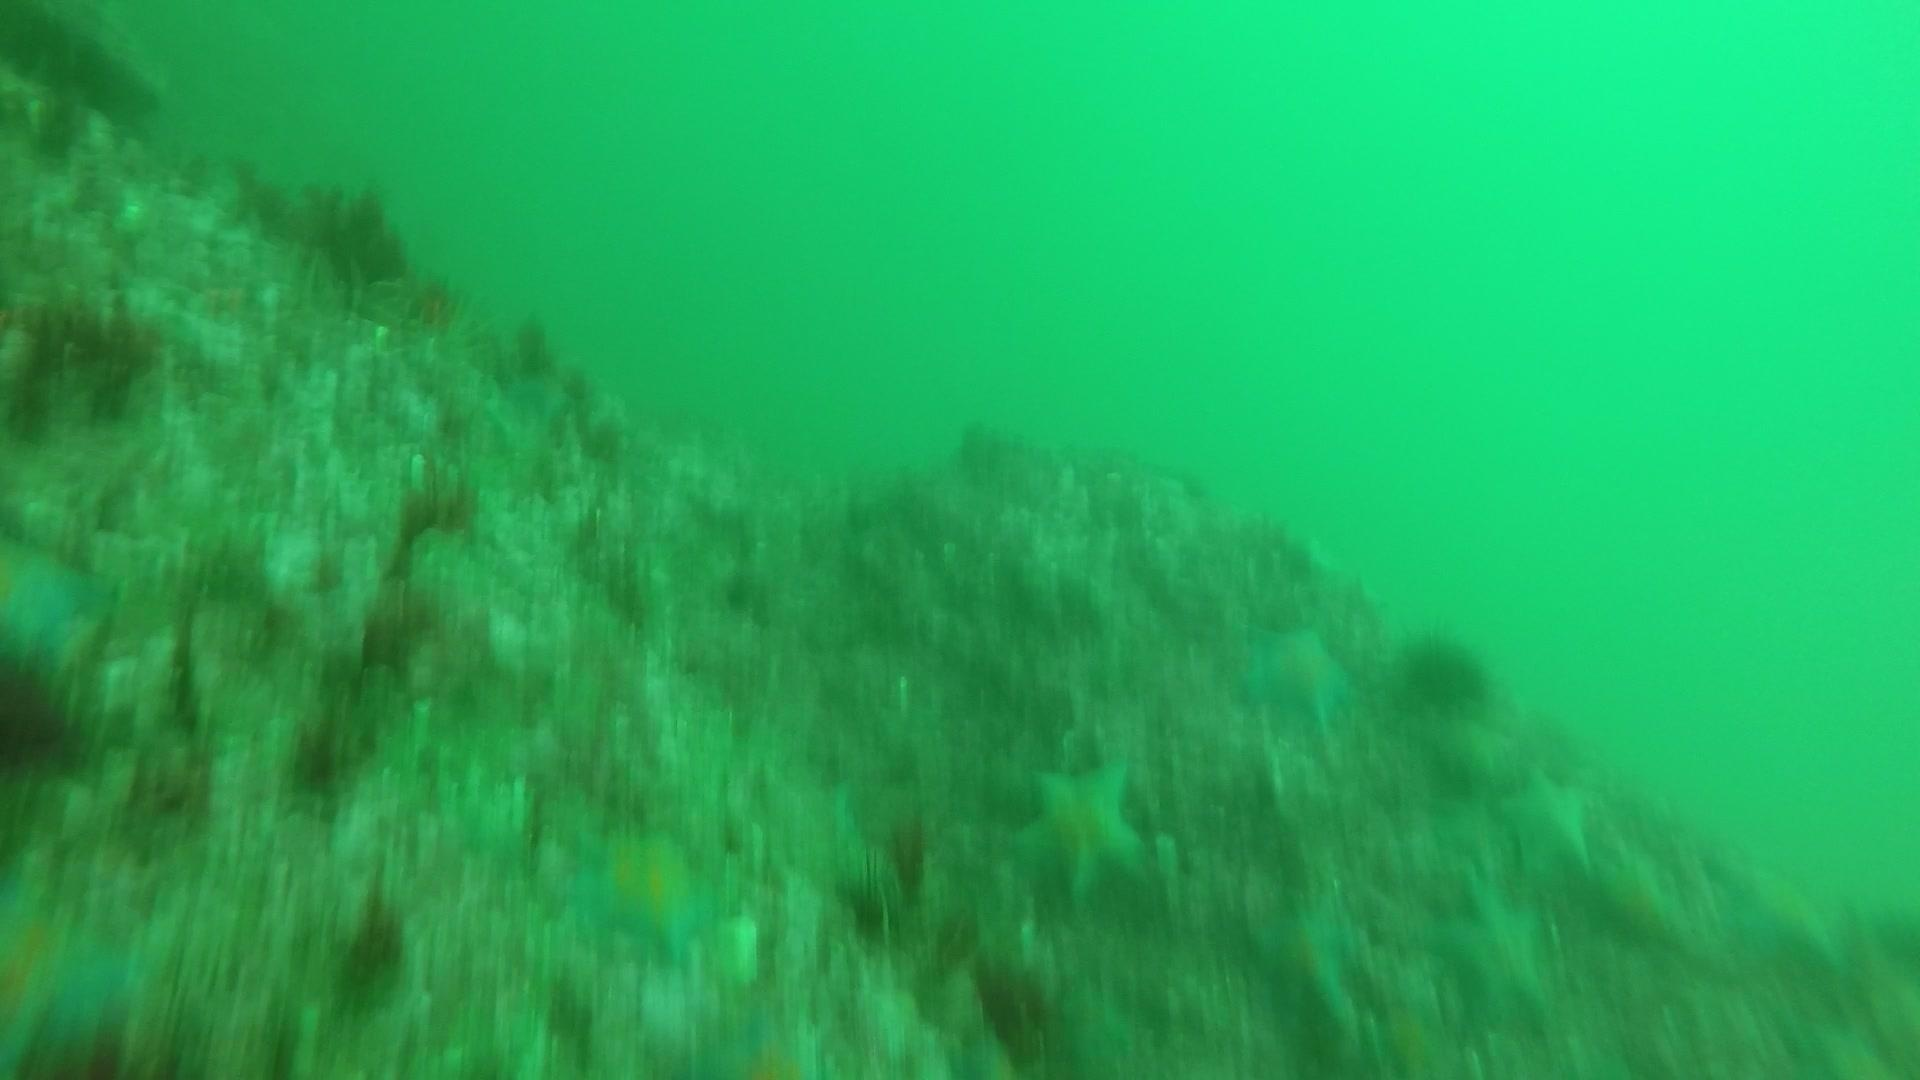echinus: (0, 644, 82, 781), (1395, 626, 1495, 716)
starfish: (0, 869, 156, 1075), (554, 818, 729, 965), (1005, 752, 1156, 909), (1418, 873, 1564, 1031), (1242, 884, 1375, 1029), (1710, 843, 1857, 975), (0, 529, 117, 671), (1230, 615, 1360, 733), (1491, 764, 1604, 882), (1580, 843, 1687, 948), (1360, 989, 1469, 1080), (691, 1004, 829, 1075)
